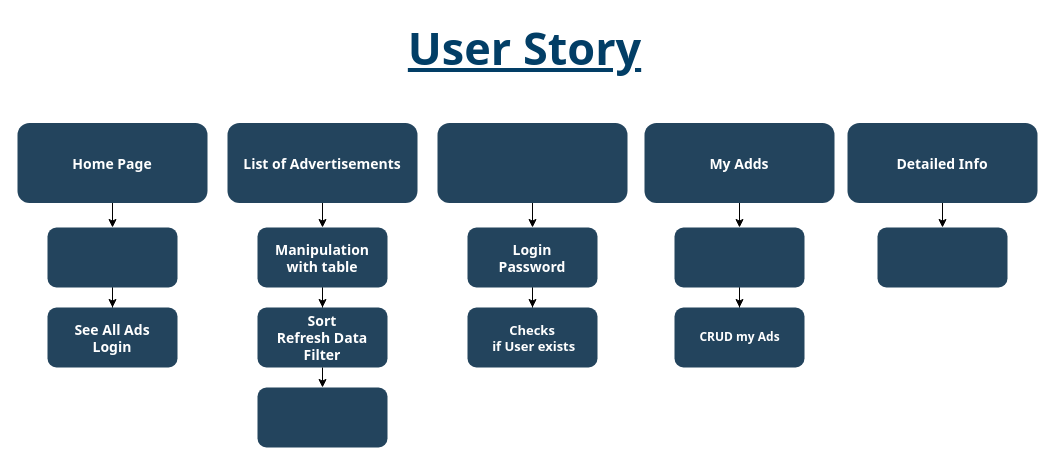
This 1054x464 diagram has some shape labels left out. Each missing label, with the centre of its shape:
Contact Info: point 942,257
Login: point 532,162
Menu Buttons: point 112,257
See Detailed Info: point 322,417
See my Ads: point 739,257
